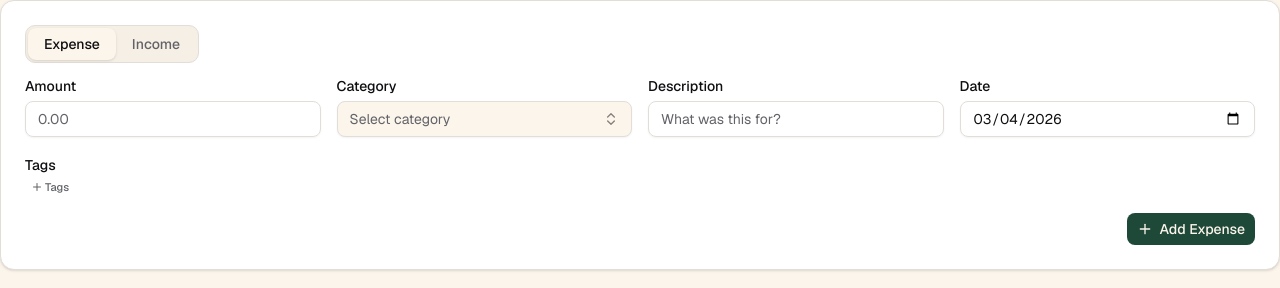
Test: TransactionForm › toggles between expense and income type
What coordinates should you click on to do the following:
click the radio button labelled "Income"
I would click on:
 (156, 44)
Its box is [116,28,196,60].
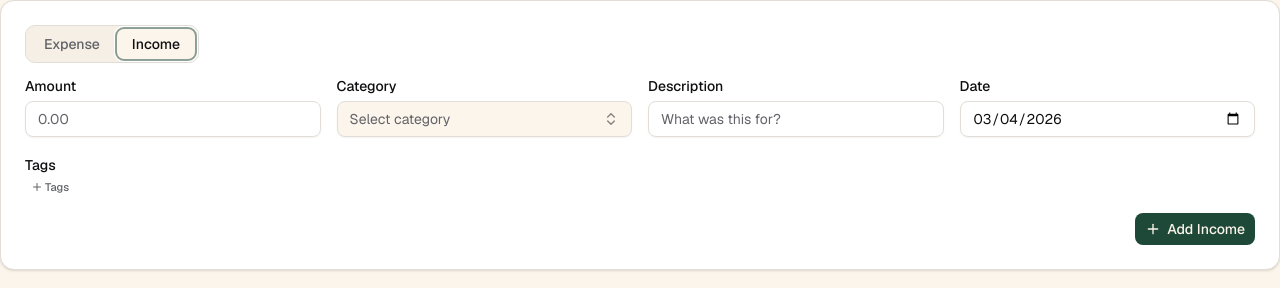
Result: the button "Add Income" is shown at [1135,213,1255,245]
